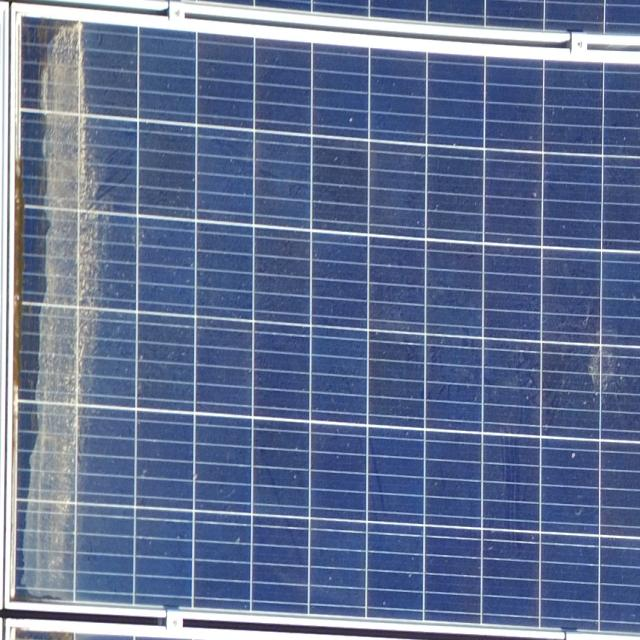Dust: (13, 19, 122, 626)
bird-droppings: (582, 342, 620, 396), (284, 468, 300, 484), (525, 186, 539, 204), (327, 572, 339, 588), (231, 531, 243, 546), (135, 382, 147, 397), (346, 112, 358, 126), (382, 593, 388, 614), (571, 441, 576, 462)
